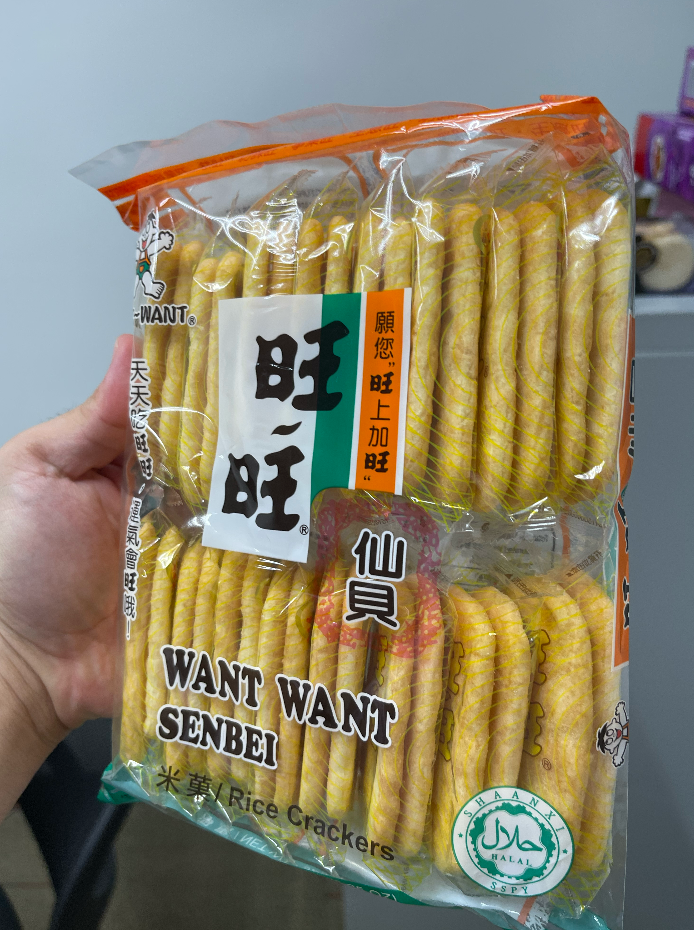crackers_1g-99g: (138, 176, 594, 901)
